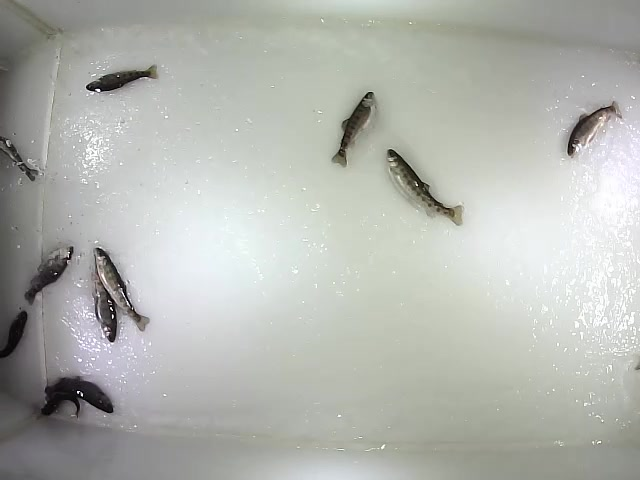fish: (384, 147, 465, 227), (92, 246, 151, 333), (328, 89, 378, 170), (566, 99, 624, 161), (23, 245, 76, 307), (44, 374, 116, 414), (85, 62, 161, 97), (89, 262, 119, 343), (1, 310, 29, 363), (38, 391, 81, 420)
